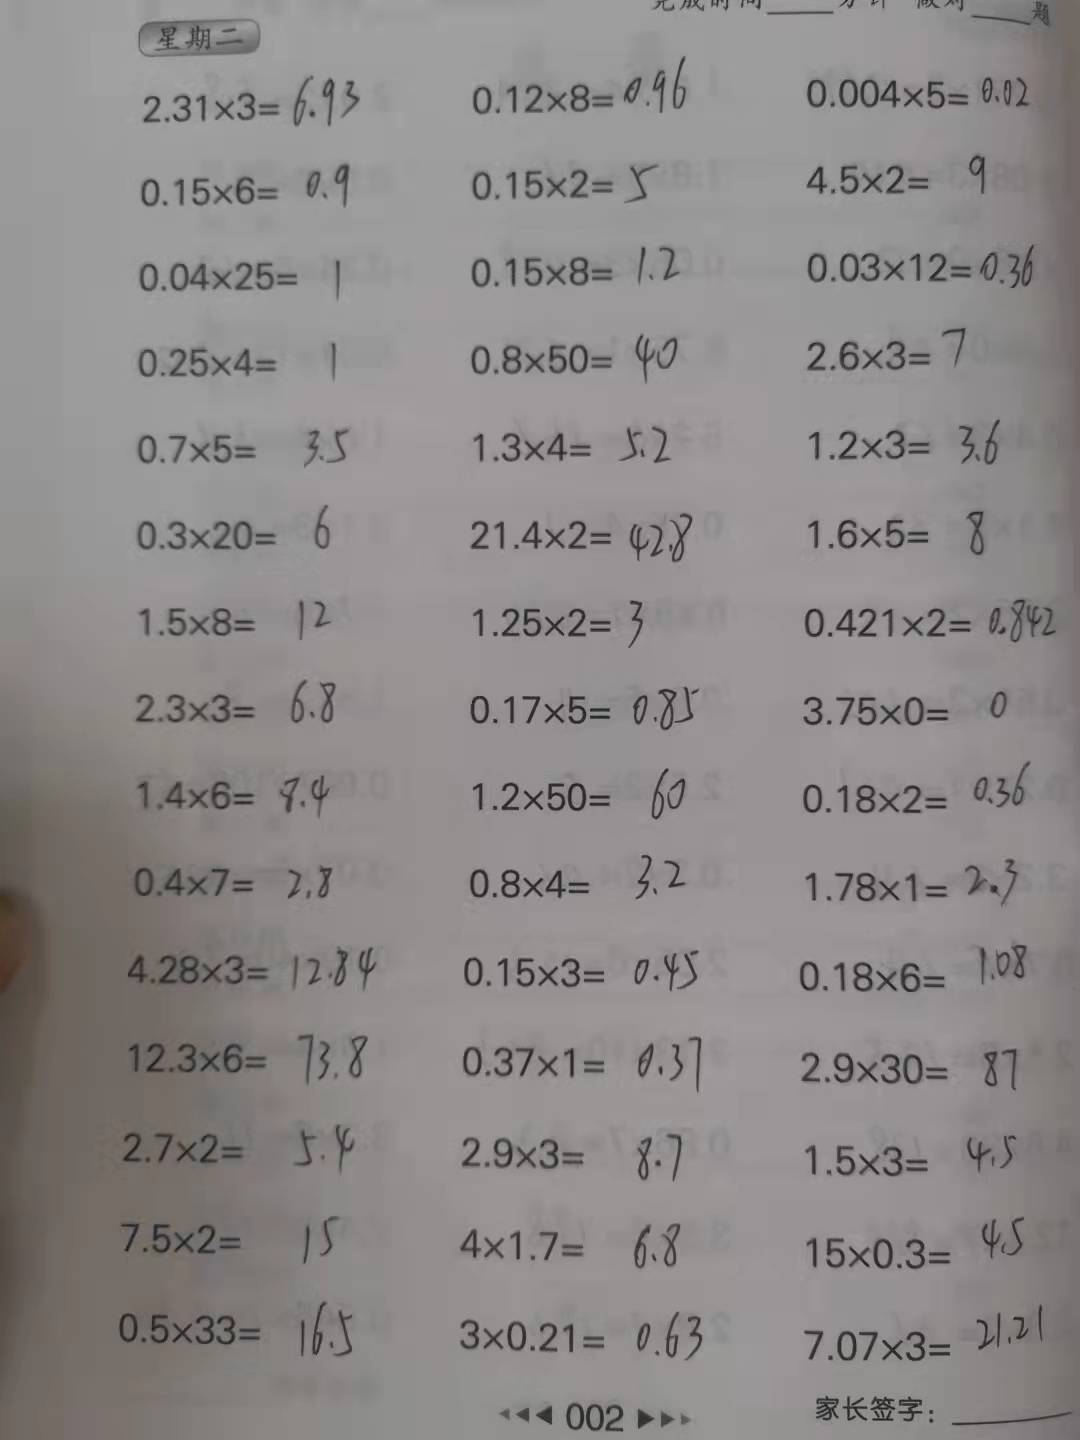equation: (793, 1291, 1053, 1370), (461, 47, 701, 126), (453, 1028, 713, 1100), (114, 1297, 364, 1371), (790, 1031, 1034, 1105), (454, 1301, 714, 1369), (116, 1020, 373, 1088), (463, 504, 701, 576), (782, 936, 1045, 1000), (801, 1207, 1034, 1279), (461, 761, 699, 831), (453, 676, 706, 741), (111, 1117, 359, 1183), (452, 1122, 688, 1190), (129, 408, 354, 479), (791, 753, 1036, 818), (455, 324, 696, 390), (791, 597, 1068, 654), (116, 942, 387, 999), (124, 244, 354, 311), (798, 61, 1040, 124), (459, 941, 702, 1002), (460, 849, 702, 910), (799, 235, 1045, 295), (109, 1207, 342, 1270), (124, 491, 343, 558), (129, 153, 365, 215), (131, 70, 360, 133), (792, 677, 1018, 740), (797, 1126, 1028, 1187), (790, 500, 996, 568), (799, 143, 1002, 211), (120, 672, 353, 731), (132, 329, 352, 391), (800, 415, 1013, 478), (801, 855, 1028, 913), (453, 154, 665, 216), (120, 850, 341, 908), (456, 1217, 684, 1273), (126, 765, 338, 825), (464, 417, 677, 476), (454, 240, 695, 292), (128, 588, 340, 645), (792, 316, 975, 379), (468, 595, 651, 654)
